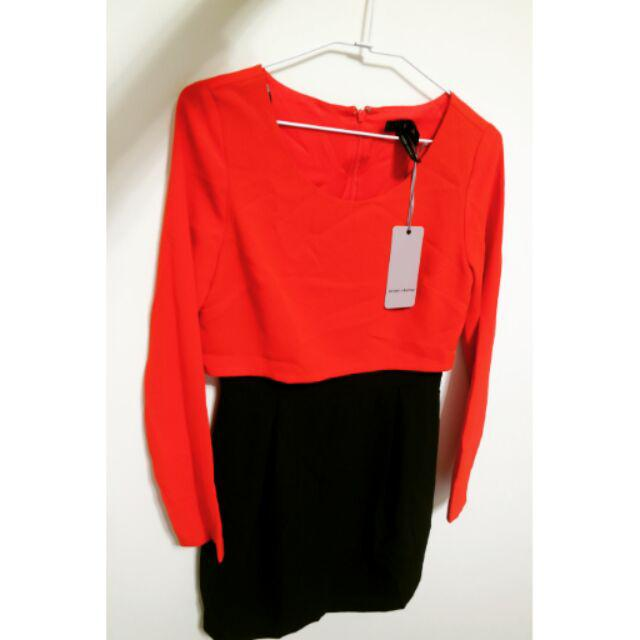Dresses: (142, 62, 502, 640)
